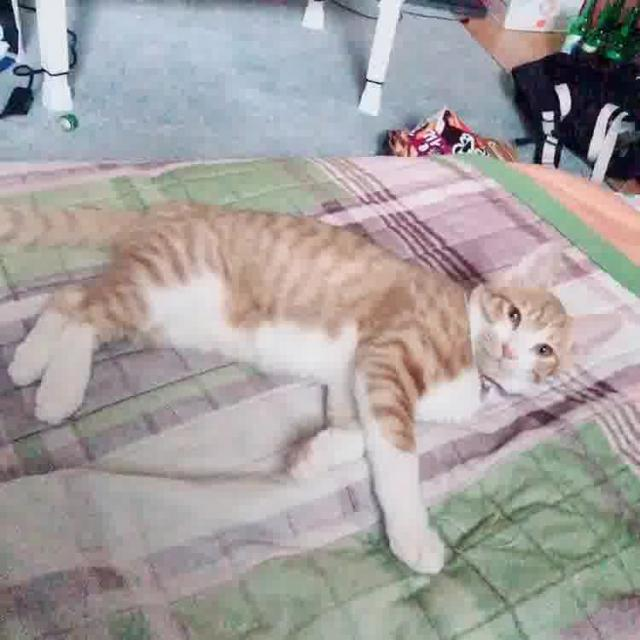cat: (0, 162, 630, 597)
